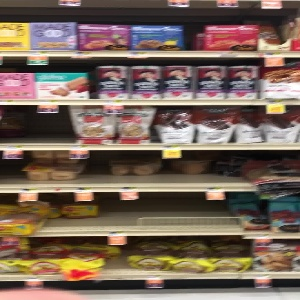void: (45, 192, 240, 230), (85, 148, 252, 185), (1, 104, 67, 144)
